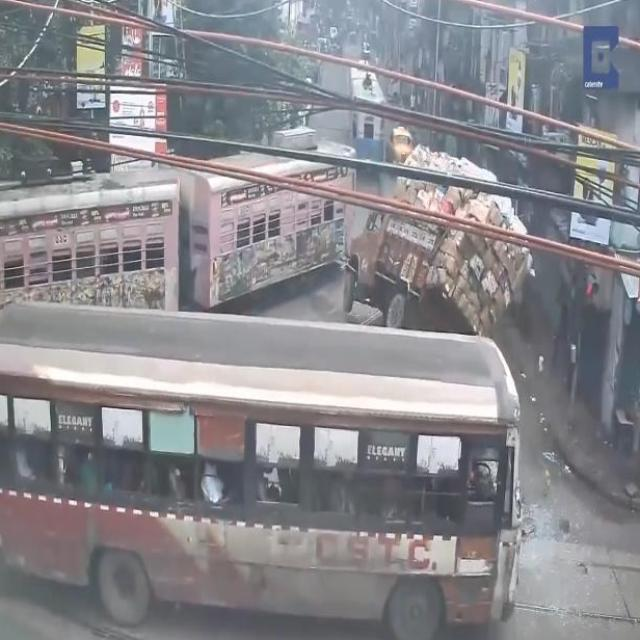accident: (339, 159, 541, 357)
